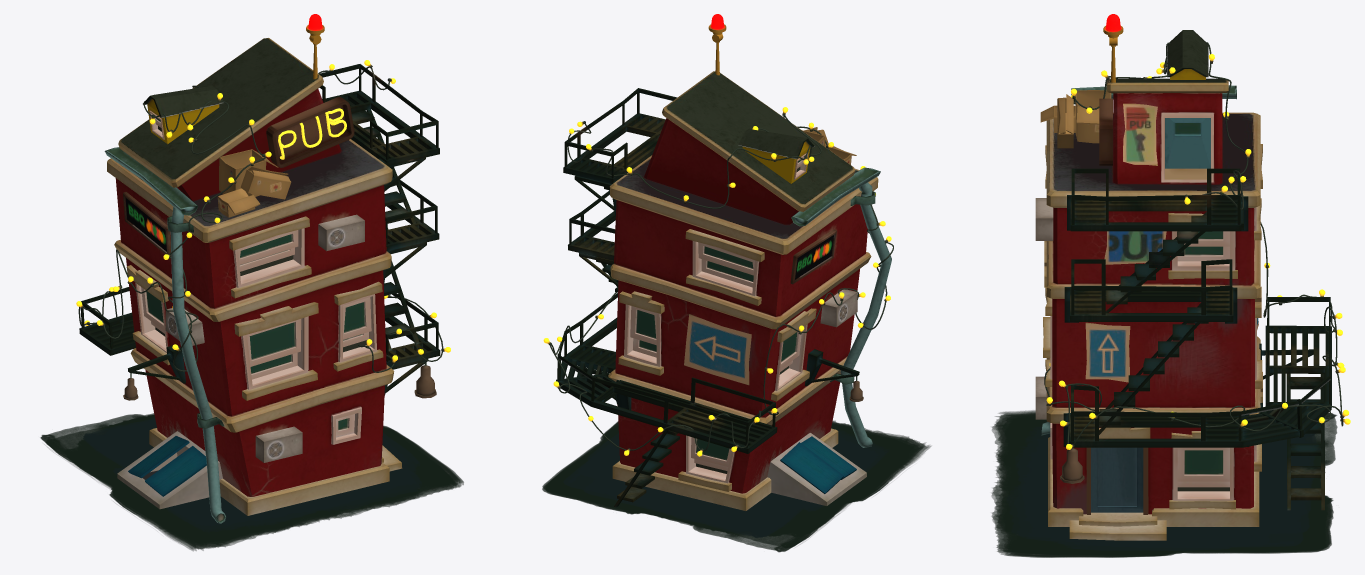
File: free_cartoon_house_pub.glb
3 views of the same model, side by side, from view 1: azimuth 30°, elevation 25°; view 2: azimuth 150°, elevation 25°; view 3: azimuth 270°, elevation 25° (orthographic). The views are drawn at different scales.
Parts seen in each view (by area): view 1: building_low, pCube1_low, pipe_low, fundament_low, lightbox_low, stairs_04_low, roof_low, lights_low, ground_low, stairs_01_low, window_upper_01_low, pipe_up_low (+22 smaller); view 2: building_low, pCube1_low, stairs_01_low, paper_03_low, pipe_low, stairs_04_low, fundament_low, lights_low, roof_low, ground_low, stairs_02_low, door_01_low (+15 smaller); view 3: building_low, pCube1_low, stairs_01_low, stairs_04_low, stairs_03_low, window_upper_08_low, fundament_low, lights_low, stairs_02_low, paper_04_low, pub_door_low, menu_low (+21 smaller).
Boxes of the visible parts, x1,y1,x2,y2 form: building_low: (107,38,394,496); pCube1_low: (40,413,463,551); pipe_low: (170,207,226,523); fundament_low: (149,428,389,515); lightbox_low: (266,97,354,167); stairs_04_low: (325,91,439,166); roof_low: (143,85,223,144); lights_low: (78,66,443,372); ground_low: (117,431,222,509); stairs_01_low: (79,312,440,366); window_upper_01_low: (247,319,301,366); pipe_up_low: (104,147,198,215); building_low: (608,71,878,493); pCube1_low: (542,420,930,552); stairs_01_low: (557,317,777,453); paper_03_low: (684,314,751,385); pipe_low: (840,182,891,447); stairs_04_low: (563,113,665,183); fundament_low: (612,428,838,510); lights_low: (549,114,893,451); roof_low: (738,128,814,183); ground_low: (767,433,866,505); stairs_02_low: (558,293,775,447); door_01_low: (780,442,843,493); building_low: (1046,78,1260,514); pCube1_low: (991,410,1337,557); stairs_01_low: (1069,325,1331,447); stairs_04_low: (1070,196,1241,231); stairs_03_low: (1070,287,1233,321); window_upper_08_low: (1091,447,1143,512); fundament_low: (1048,437,1259,526); lights_low: (1044,42,1343,449); stairs_02_low: (1071,297,1330,441); paper_04_low: (1085,322,1130,382); pub_door_low: (1165,118,1210,168); menu_low: (1123,103,1157,165).
Size of the model in its own units: 17.16 by 24.64 by 16.56.
2 materials, 2 textured.
